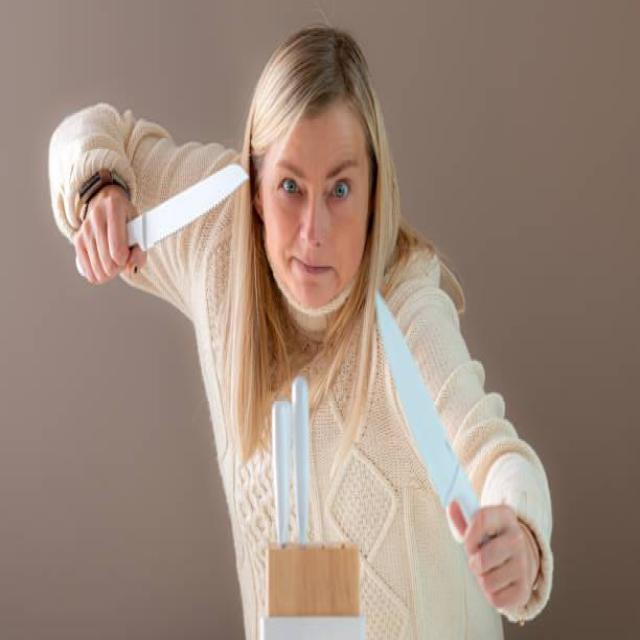faca: (358, 276, 536, 632), (58, 144, 254, 292)
